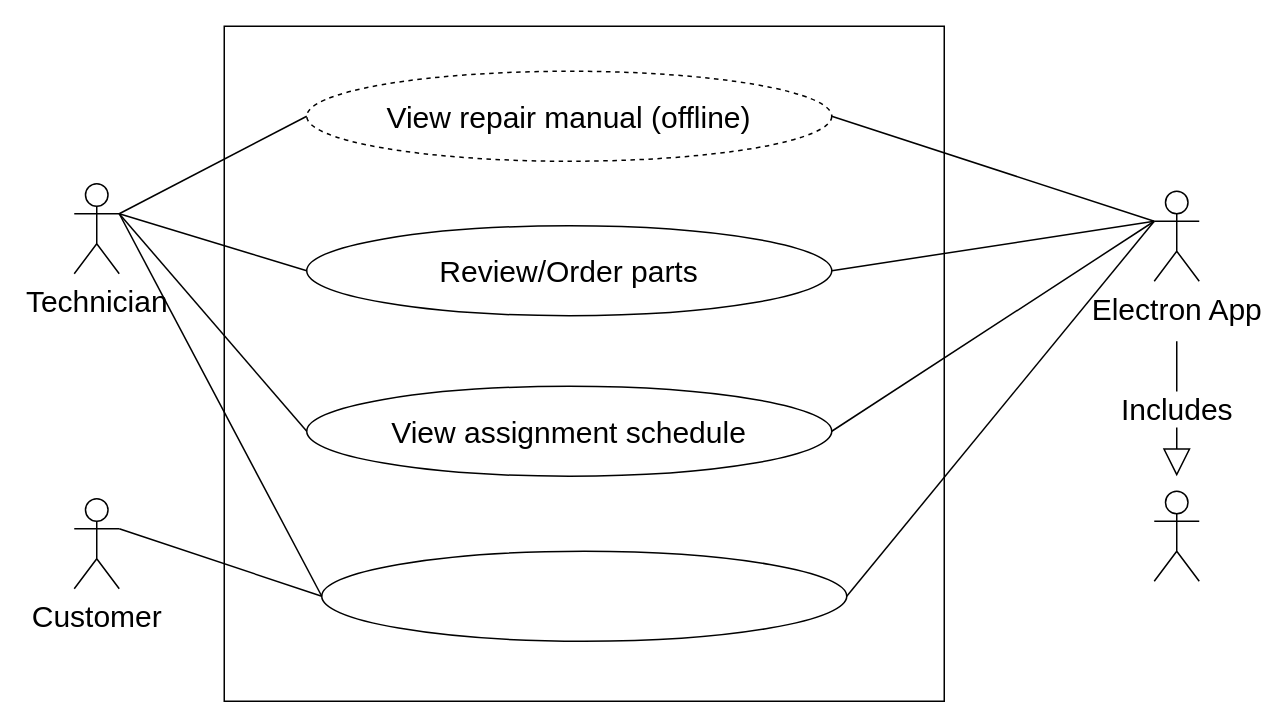
The diagram is 1287 pixels wide and 728 high, and some of its shapes have lost their labels. The centre of each missing label's shape, as x and y in pixels:
Backend: point 1176,535
Completion/Confirmation - Signature: point 583,595
